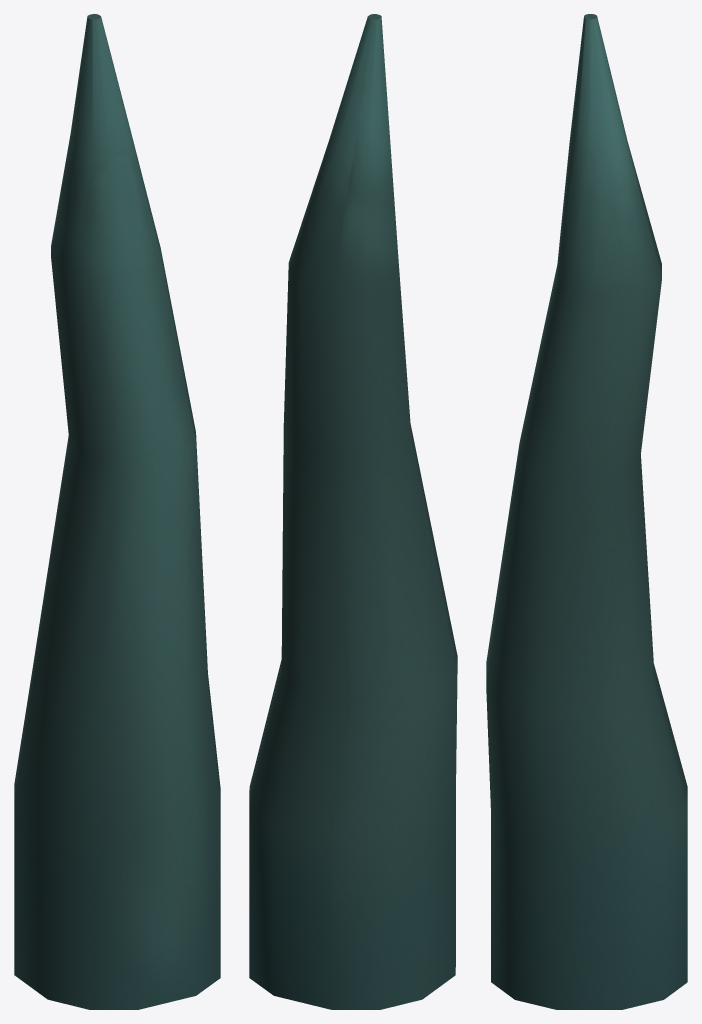
The model's file is stalagmite_04.fbx.
The picture shows the model from 3 angles, left to right: view 1: azimuth 30°, elevation 25°; view 2: azimuth 150°, elevation 25°; view 3: azimuth 270°, elevation 25°; orthographic projection.
Parts seen in each view (by area): view 1: polySurface214; view 2: polySurface214; view 3: polySurface214.
Part boxes in pixels (x1,y1,x2,y2): polySurface214: (14,14,220,1009); polySurface214: (249,14,457,1009); polySurface214: (486,14,687,1009).
Bounding box in the file's own units: 1.06 × 1.09 × 5.62.
